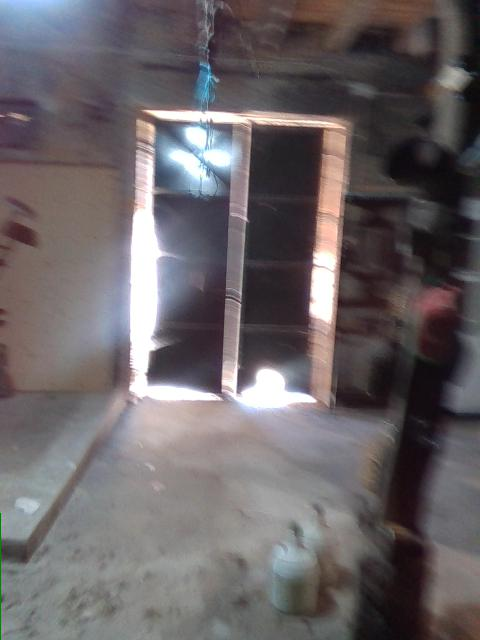door: (129, 110, 349, 413)
